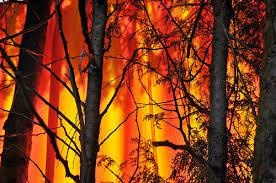fire: (98, 9, 214, 181)
